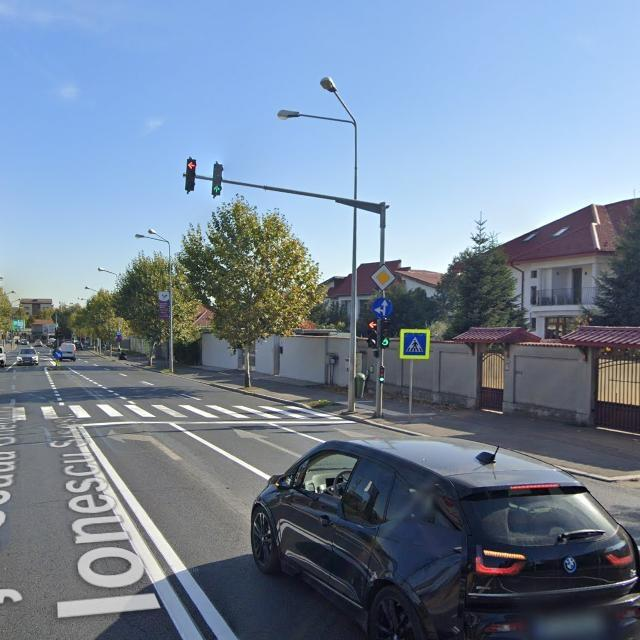info_crosswalk: (399, 328, 430, 359)
